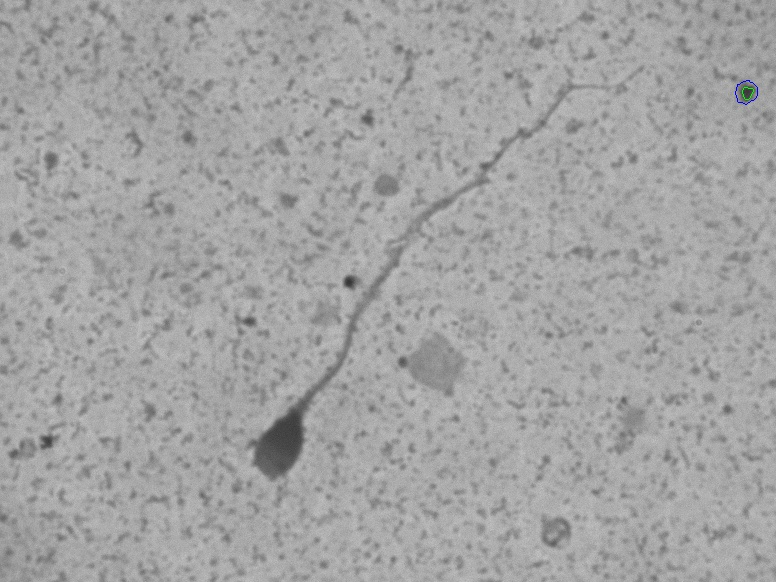Normal: (237, 58, 657, 492)
